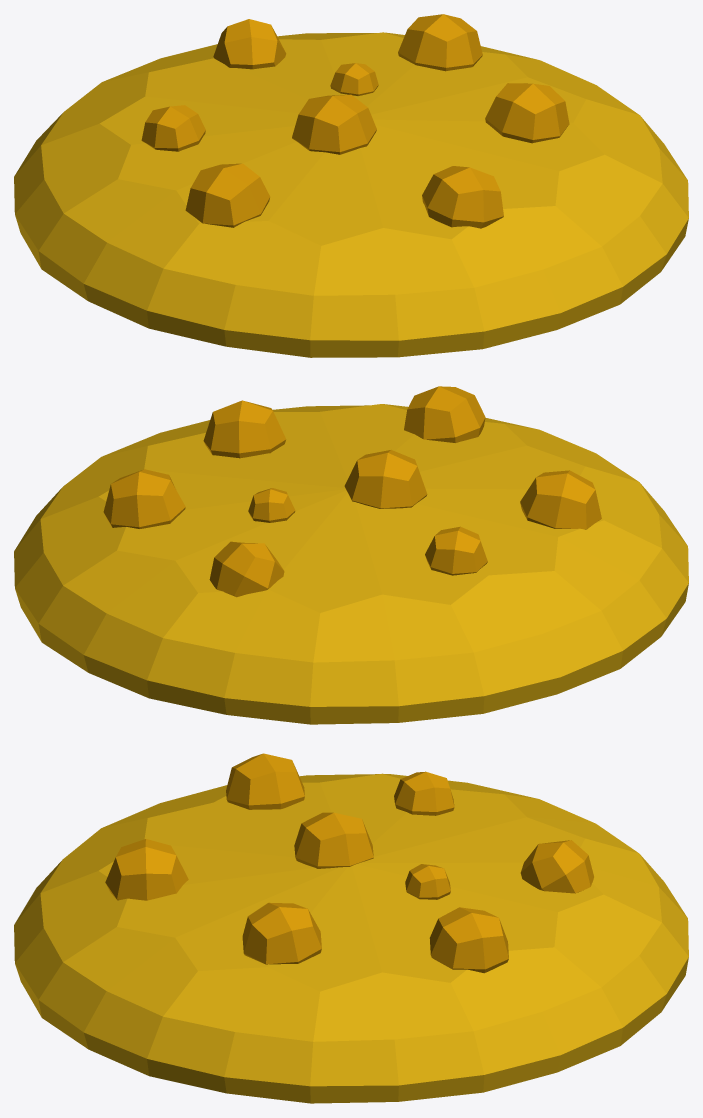
Rendered from cookie.fbx.
3 renders of one model, top to bottom at view 1: azimuth 30°, elevation 25°; view 2: azimuth 150°, elevation 25°; view 3: azimuth 270°, elevation 25°, orthographic.
Visible parts, largest first — view 1: Cube.005; view 2: Cube.005; view 3: Cube.005.
Part boxes in pixels (<box>): Cube.005: <box>14,14,688,357</box>; Cube.005: <box>14,386,688,724</box>; Cube.005: <box>14,753,688,1103</box>.
Size of the model in its own units: 43.32 by 10.13 by 43.32.
